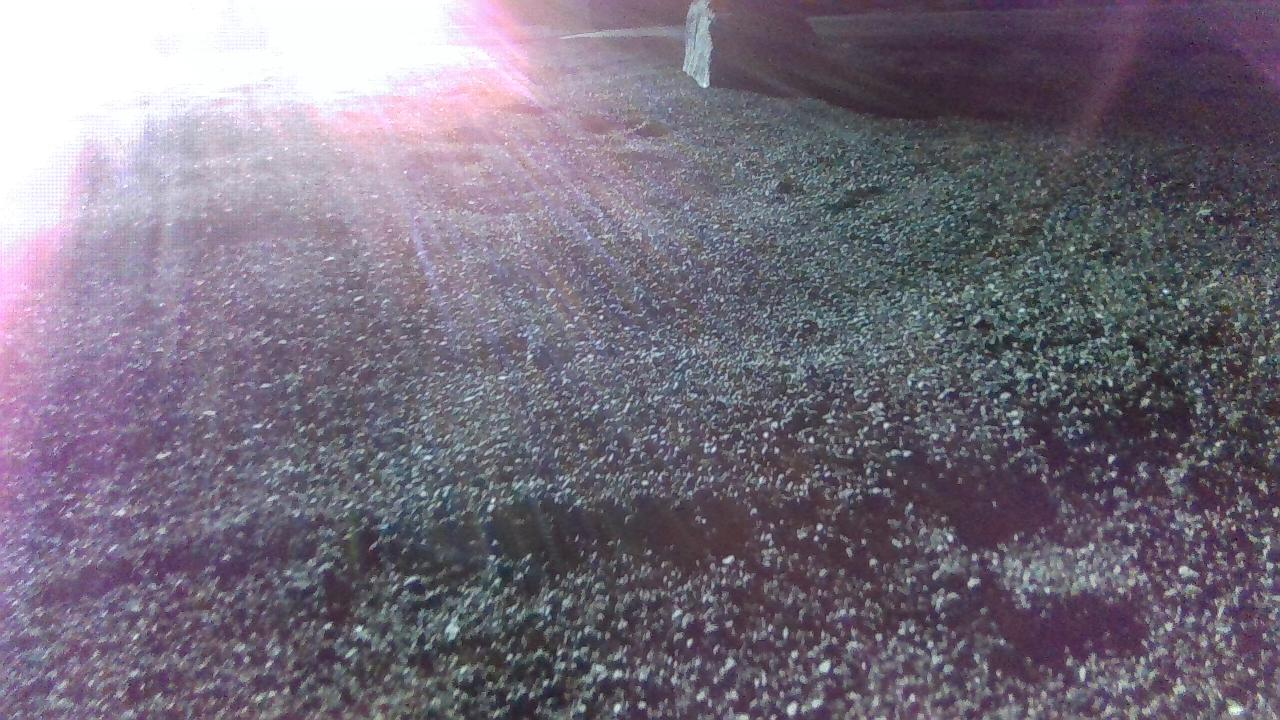rock: (684, 1, 715, 86)
